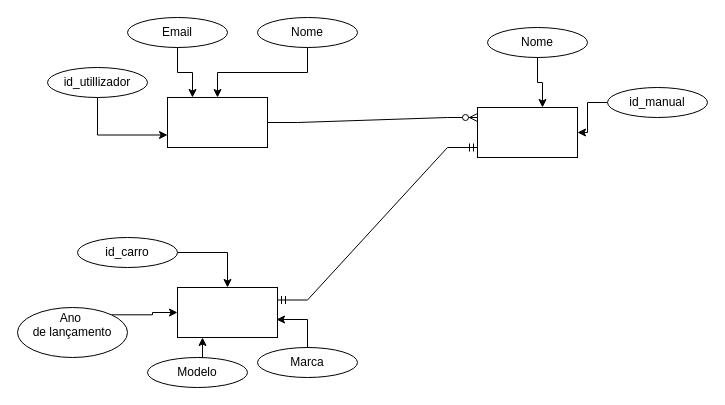
The diagram is 725 pixels wide and 405 high, and some of its shapes have lost their labels. Each missing label, with the centre of its shape:
Carro: the point at 227,312
Manual: the point at 527,132
Utilizador: the point at 217,122
